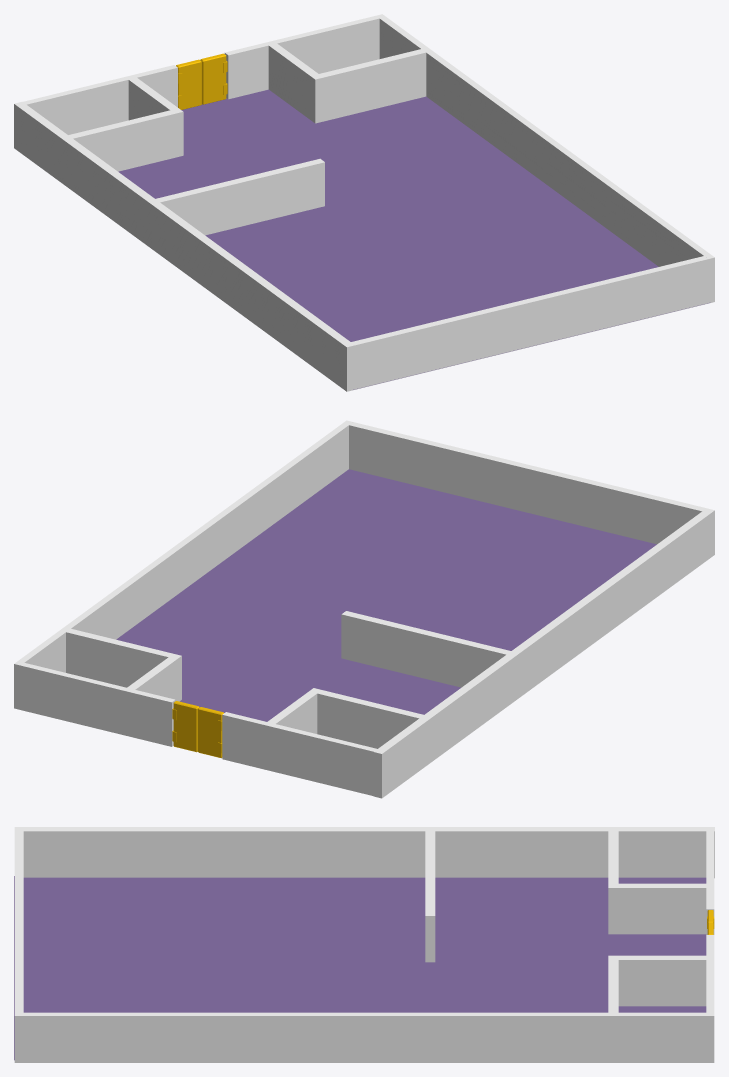
Rendered from maps_88.fbx.
3 renders of one model, top to bottom at view 1: azimuth 30°, elevation 25°; view 2: azimuth 150°, elevation 25°; view 3: azimuth 270°, elevation 25°, orthographic. The views are drawn at different scales.
Parts seen in each view (by area): view 1: wall_01_08_geo, wall_01_07_geo, wall_01_05_geo, wall_01_06_geo, wall_01_07_geo8, wall_01_09_geo1, wall_01_07_geo12, wall_01_09_geo, wall_01_07_geo13, wall_01_07_geo14, wall_01_07_geo15, polySurface161 (+1 smaller); view 2: wall_01_08_geo, wall_01_07_geo, wall_01_05_geo, wall_01_06_geo, wall_01_09_geo1, wall_01_09_geo, wall_01_07_geo8, wall_01_07_geo12, wall_01_07_geo13, wall_01_07_geo14, wall_01_07_geo15, polySurface161 (+1 smaller); view 3: wall_01_08_geo, wall_01_06_geo, wall_01_07_geo, wall_01_07_geo15, wall_01_07_geo14, wall_01_05_geo, wall_01_07_geo8, wall_01_09_geo, wall_01_09_geo1, wall_01_07_geo12, wall_01_07_geo13.
Boxes of the visible parts, x1=… form: wall_01_08_geo: x1=118, y1=89, x2=710, y2=389; wall_01_07_geo: x1=14, y1=101, x2=354, y2=391; wall_01_05_geo: x1=351, y1=256, x2=708, y2=389; wall_01_06_geo: x1=376, y1=14, x2=714, y2=303; wall_01_07_geo8: x1=155, y1=158, x2=324, y2=235; wall_01_09_geo1: x1=224, y1=15, x2=379, y2=99; wall_01_07_geo12: x1=319, y1=49, x2=426, y2=121; wall_01_09_geo: x1=23, y1=65, x2=177, y2=134; wall_01_07_geo13: x1=68, y1=110, x2=175, y2=171; wall_01_07_geo14: x1=268, y1=43, x2=323, y2=123; wall_01_07_geo15: x1=128, y1=78, x2=183, y2=157; polySurface161: x1=200, y1=53, x2=227, y2=104; wall_01_08_geo: x1=116, y1=469, x2=656, y2=721; wall_01_07_geo: x1=373, y1=508, x2=714, y2=798; wall_01_05_geo: x1=349, y1=422, x2=706, y2=544; wall_01_06_geo: x1=14, y1=420, x2=352, y2=709; wall_01_09_geo1: x1=20, y1=663, x2=175, y2=746; wall_01_09_geo: x1=222, y1=712, x2=377, y2=795; wall_01_07_geo8: x1=341, y1=611, x2=510, y2=687; wall_01_07_geo12: x1=66, y1=629, x2=172, y2=687; wall_01_07_geo13: x1=317, y1=690, x2=423, y2=748; wall_01_07_geo14: x1=127, y1=654, x2=181, y2=701; wall_01_07_geo15: x1=267, y1=688, x2=321, y2=733; polySurface161: x1=172, y1=701, x2=199, y2=752; wall_01_08_geo: x1=14, y1=876, x2=706, y2=1060; wall_01_06_geo: x1=14, y1=1012, x2=714, y2=1062; wall_01_07_geo: x1=14, y1=827, x2=714, y2=878; wall_01_07_geo15: x1=608, y1=883, x2=707, y2=934; wall_01_07_geo14: x1=608, y1=955, x2=706, y2=1006; wall_01_05_geo: x1=14, y1=831, x2=23, y2=1012; wall_01_07_geo8: x1=425, y1=831, x2=435, y2=962; wall_01_09_geo: x1=706, y1=831, x2=714, y2=934; wall_01_09_geo1: x1=706, y1=935, x2=714, y2=1012; wall_01_07_geo12: x1=608, y1=960, x2=618, y2=1012; wall_01_07_geo13: x1=608, y1=831, x2=618, y2=883.
Bounding box in the file's own units: 76.85 × 8.89 × 120.
2 materials, 2 textured.
